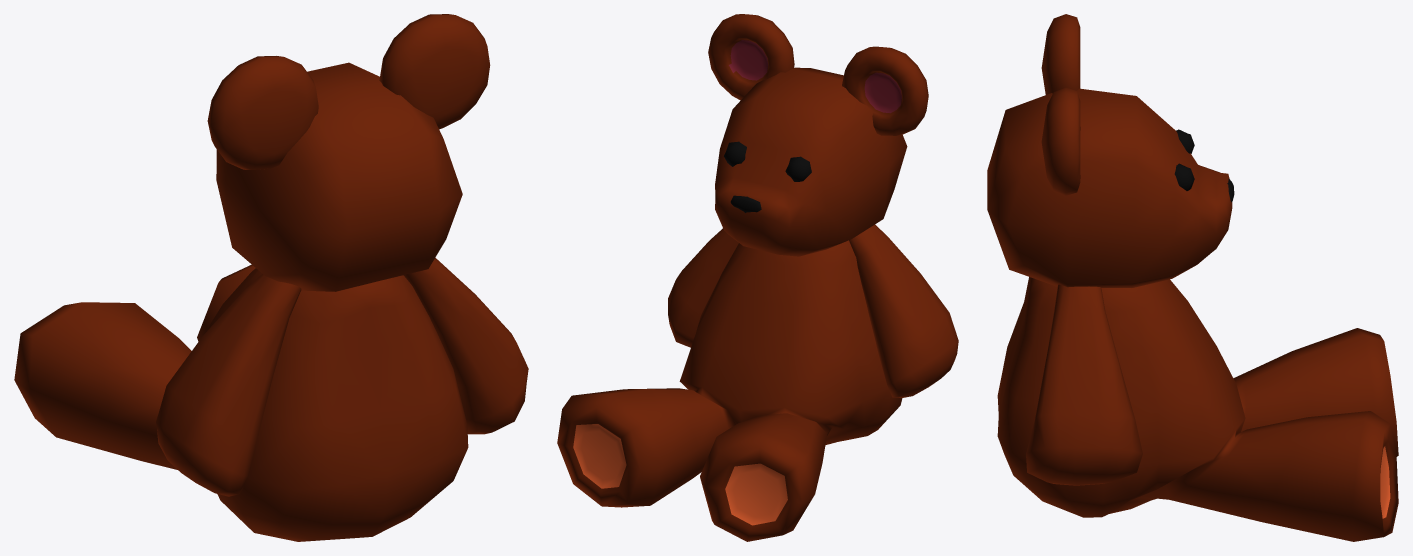
Rendered from sm_teddybear.fbx.
3 renders of one model, left to right at view 1: azimuth 30°, elevation 25°; view 2: azimuth 150°, elevation 25°; view 3: azimuth 270°, elevation 25°, orthographic. The views are drawn at different scales.
Parts seen in each view (by area): view 1: body_low; view 2: body_low (×3), eyeandnose_low; view 3: body_low (×2), eyeandnose_low.
Part boxes in pixels (x1=…): body_low: x1=14, y1=14, x2=528, y2=541; body_low (×3): x1=557, y1=14, x2=958, y2=541; eyeandnose_low: x1=724, y1=141, x2=811, y2=212; body_low (×2): x1=987, y1=14, x2=1398, y2=541; eyeandnose_low: x1=1174, y1=129, x2=1234, y2=202.
Size of the model in its own units: 46.96 by 66.22 by 55.39.
